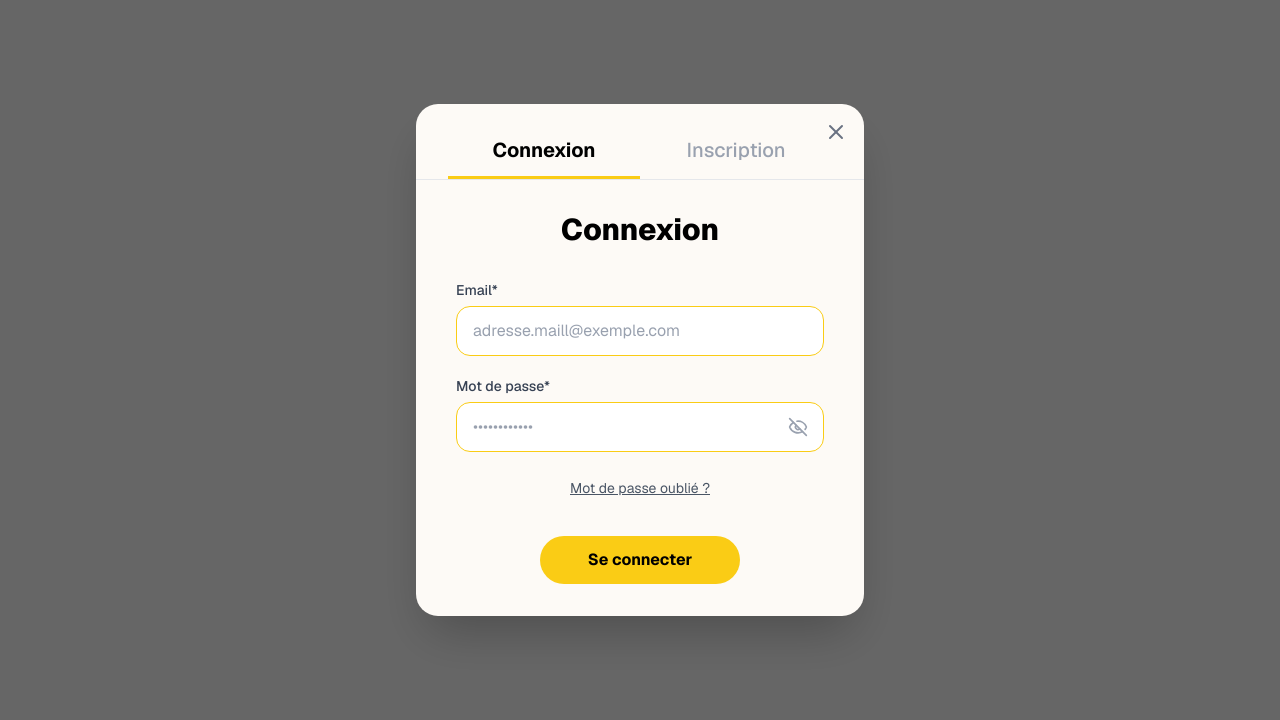
Test: LoginModal Component › affiche un message d'erreur si les identifiants sont invalides
Type "wrong@exemple.com" into the field labelled "Email*" at {"x": 640, "y": 331}, box [456,306,824,356]
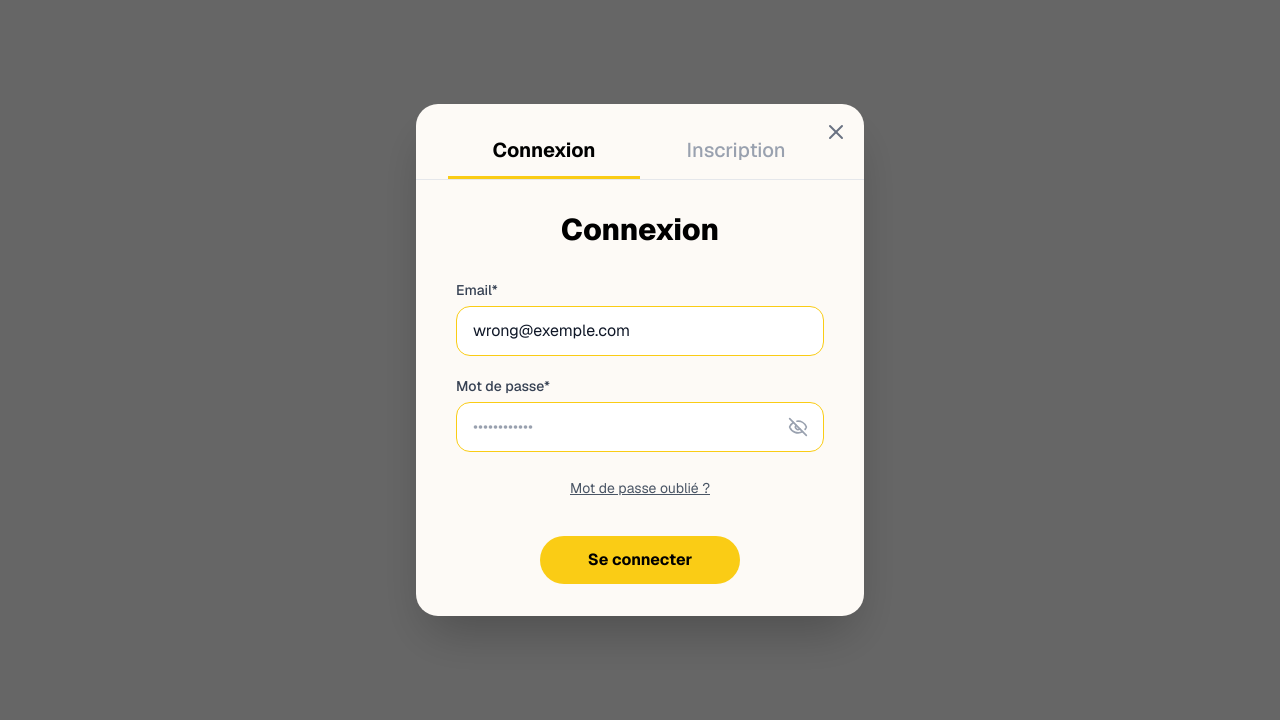
Type "wrongpass" into the password field labelled "Mot de passe*" at {"x": 640, "y": 427}, box [456,402,824,452]
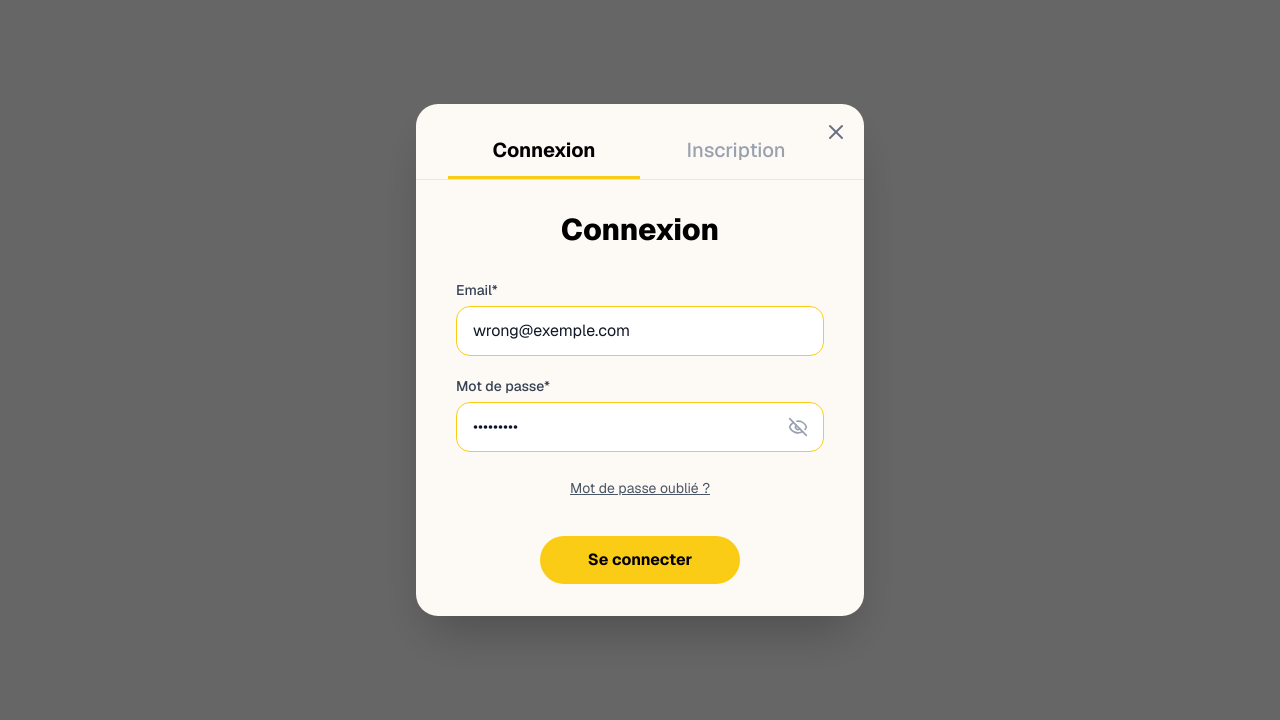
Click the button "Se connecter" at {"x": 640, "y": 560}, box [540,536,740,584]
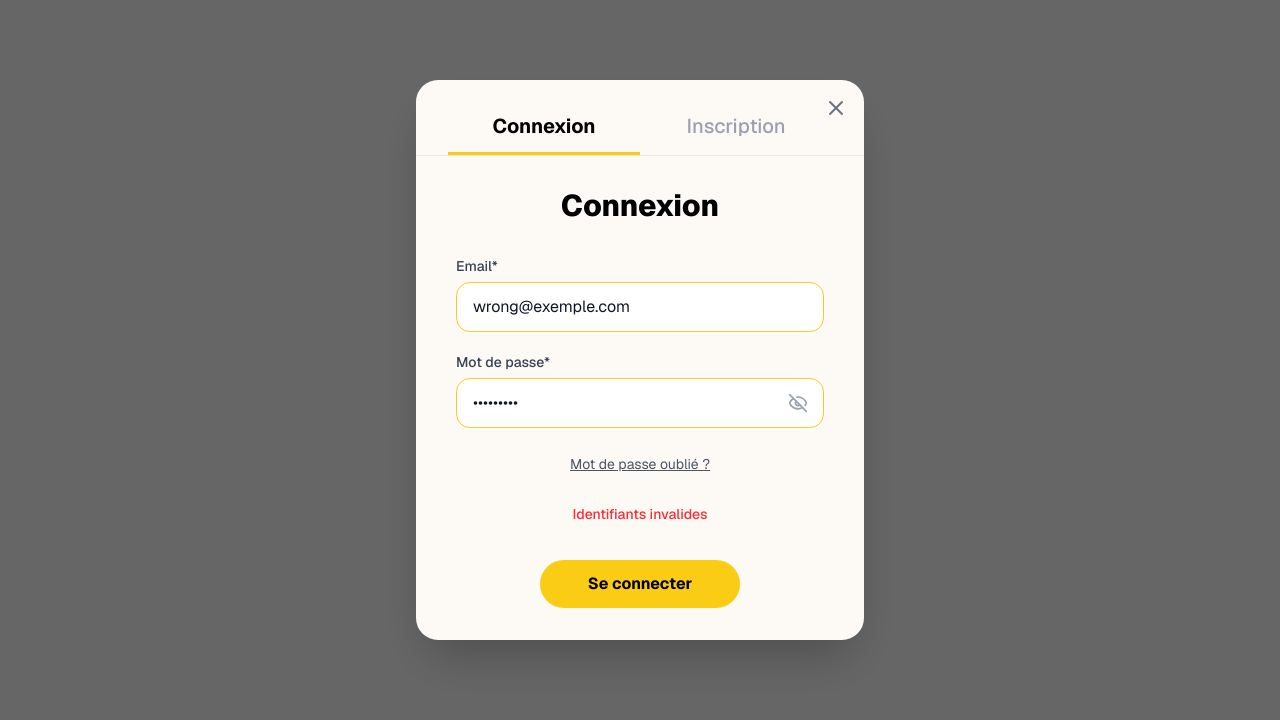
Expected: the text "Identifiants invalides" is shown, [572,505,708,523]
